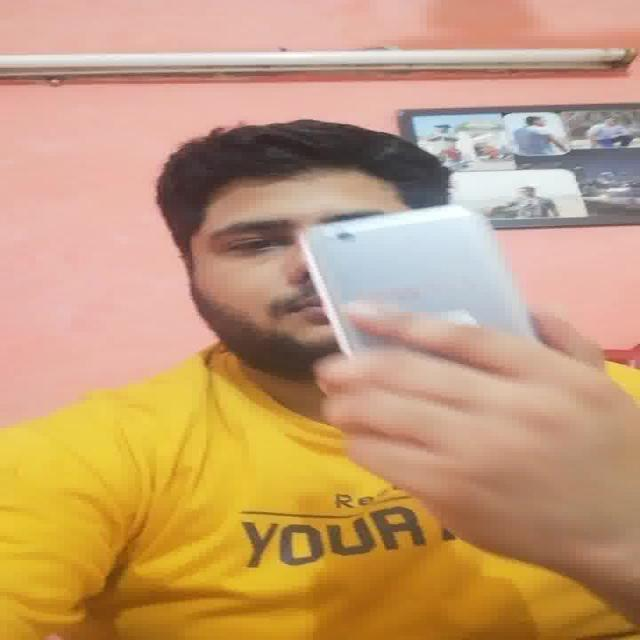Phone: (296, 204, 544, 358)
